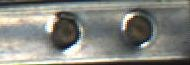joints: (43, 10, 85, 53), (117, 6, 156, 49)
